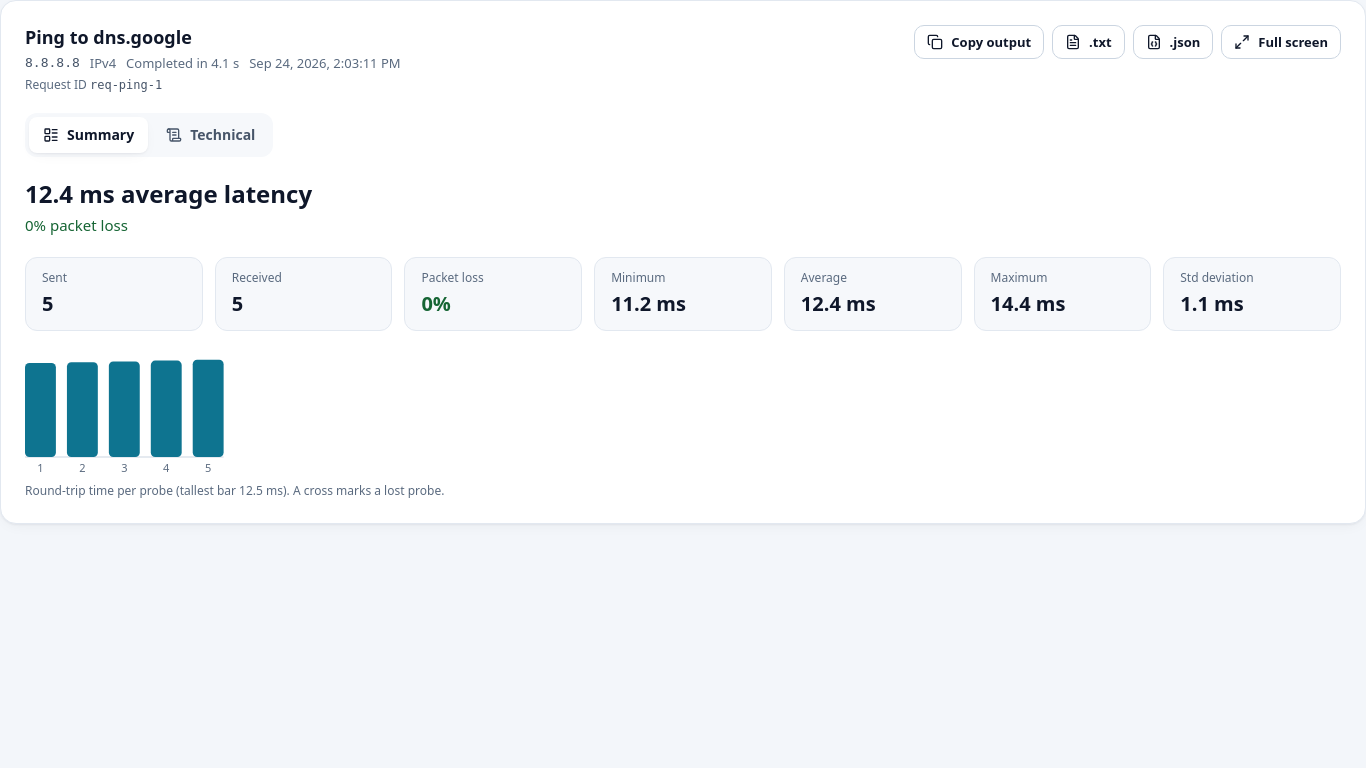
ResultPanel › shows the human readable summary first and the raw output in the Technical tab
This screenshot has width=1366, height=768.
expect the text "12.4 ms average latency" is shown: met, box x1=25 y1=177 x2=312 y2=210
expect the text "0% packet loss" is shown: met, box x1=25 y1=215 x2=128 y2=235
Click the tab "Technical" at x=211, y=135, box x1=152 y1=117 x2=269 y2=153
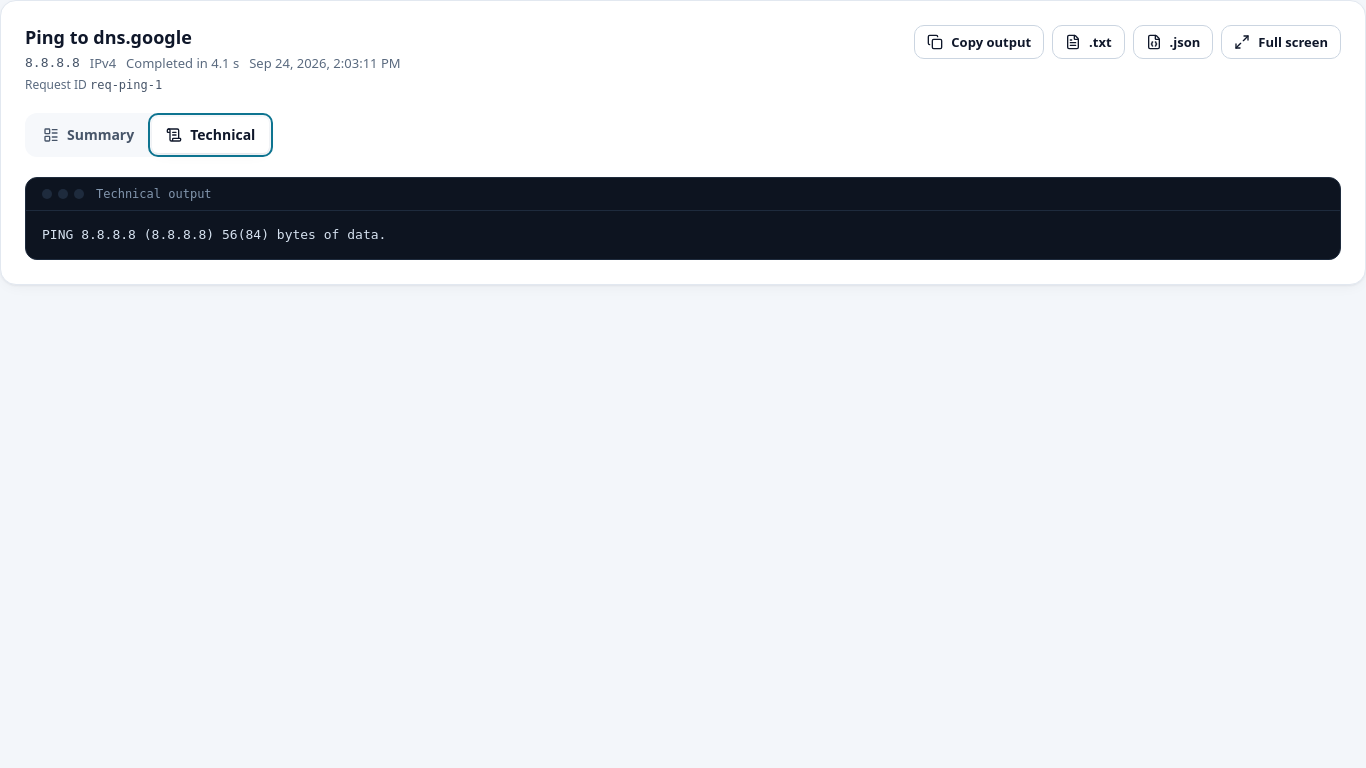
expect the text "PING 8.8.8.8 (8.8.8.8) 56(84) bytes of data." is shown: met, box x1=42 y1=227 x2=386 y2=242
expect the text "12.4 ms average latency" is gone: met
